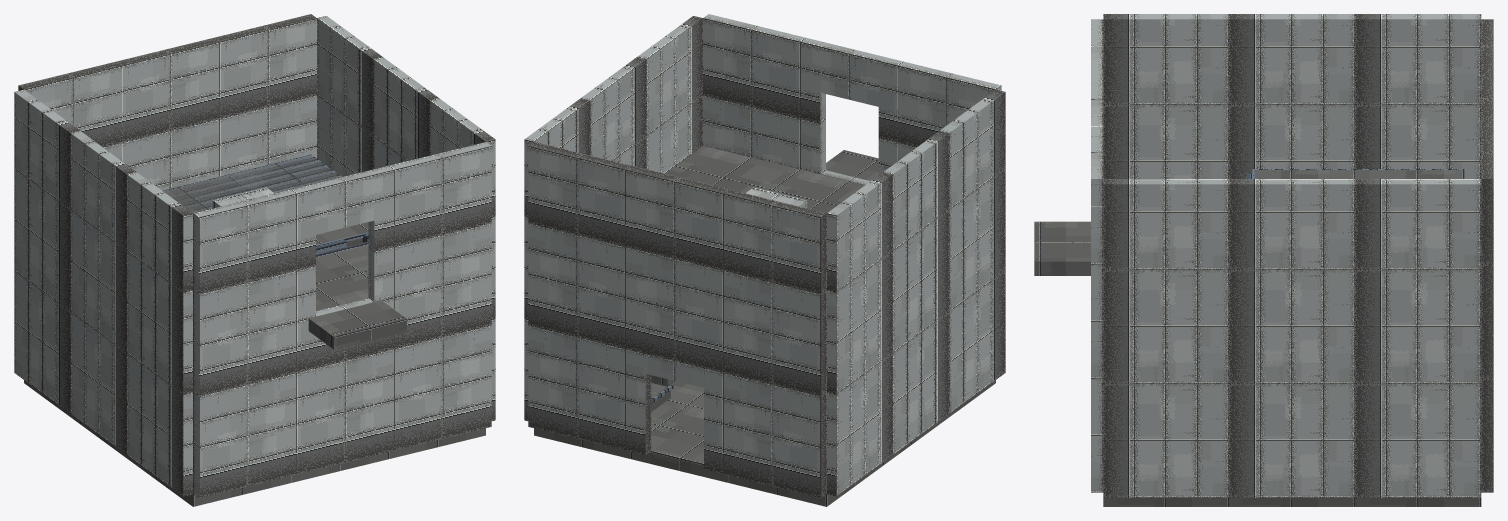
Rendered from shell_tower_collapsed.glb.
3 views of the same model, side by side, from view 1: azimuth 30°, elevation 25°; view 2: azimuth 150°, elevation 25°; view 3: azimuth 270°, elevation 25° (orthographic). The views are drawn at different scales.
Visible parts, largest first — view 1: shell_tower_collapsed; view 2: shell_tower_collapsed; view 3: shell_tower_collapsed.
Part boxes in pixels (x1=…): shell_tower_collapsed: x1=14, y1=14, x2=495, y2=506; shell_tower_collapsed: x1=524, y1=14, x2=1005, y2=506; shell_tower_collapsed: x1=1034, y1=14, x2=1493, y2=506.
Size of what is drawn, in the model's own units: 12.8 by 11.5 by 14.6.
44 materials, 44 textured.
